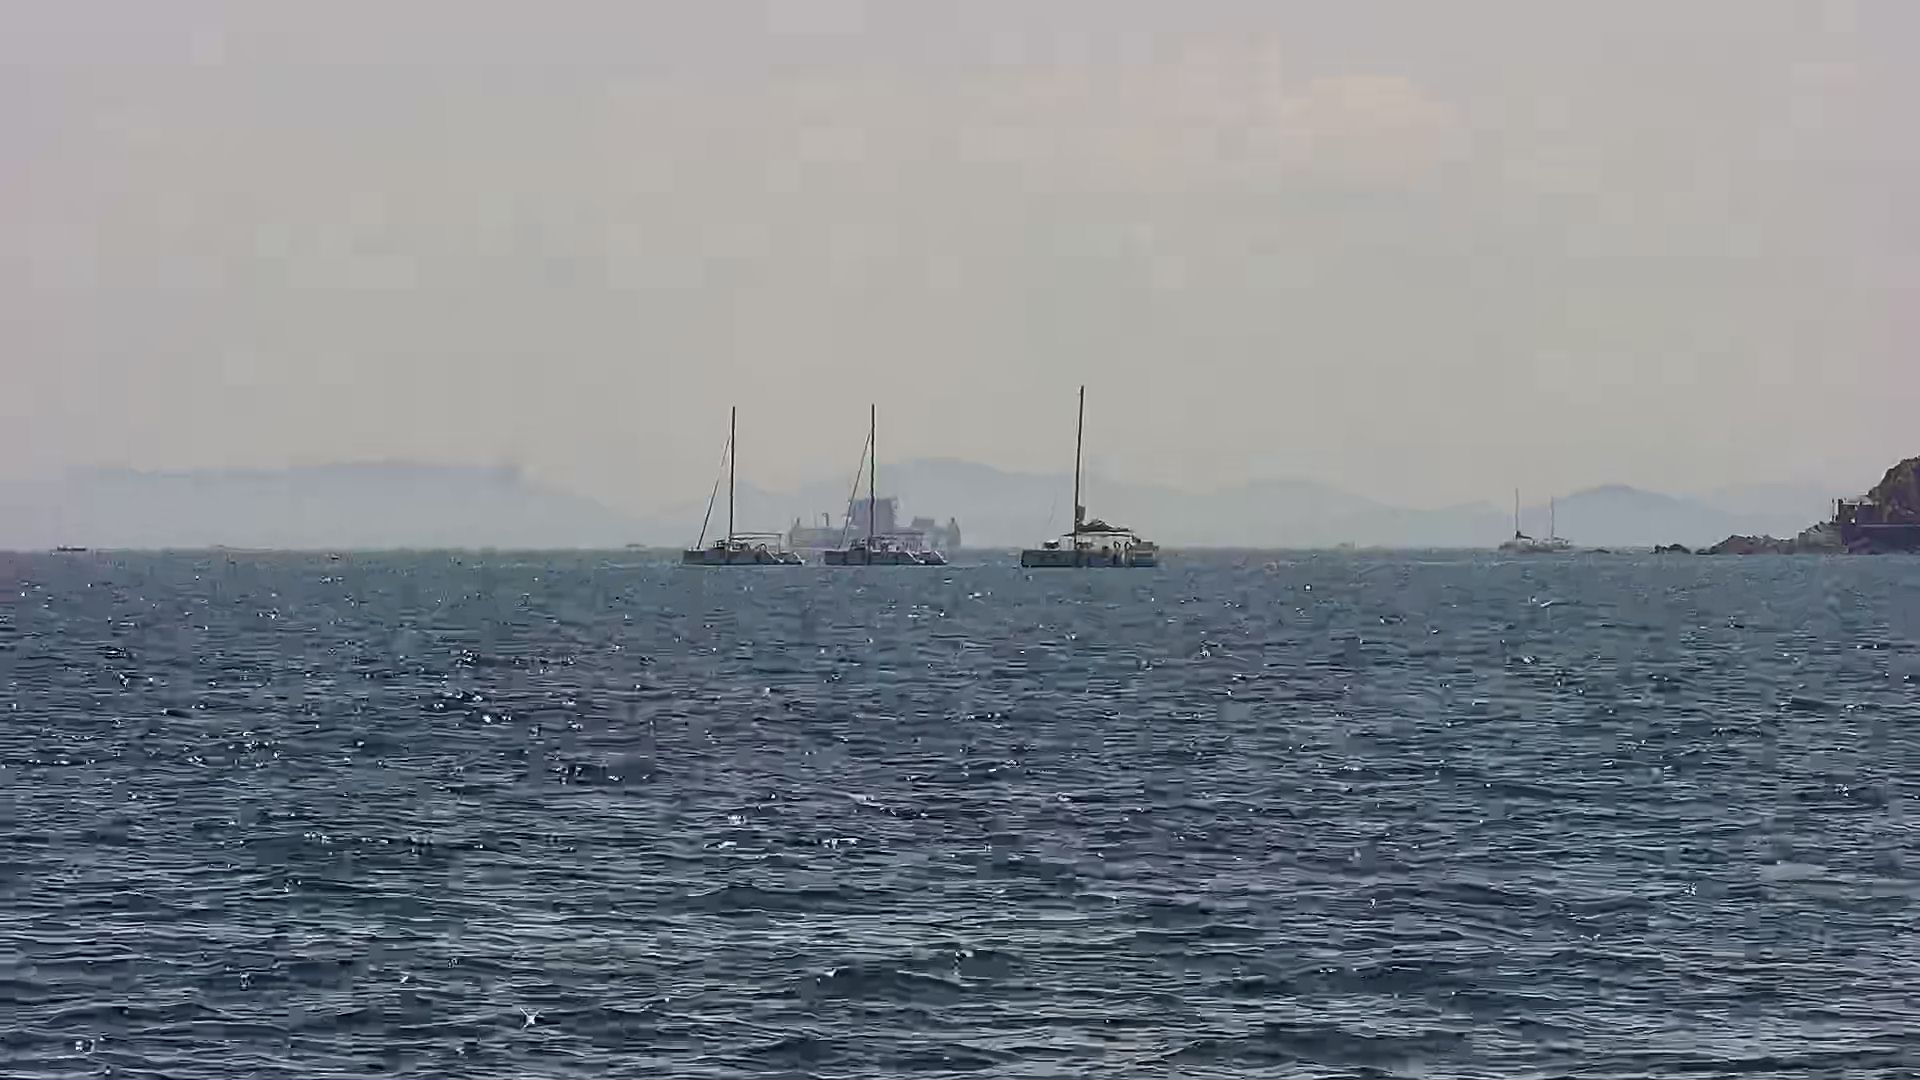boat: (1011, 382, 1166, 576), (823, 402, 959, 566), (680, 400, 804, 568)
platform: (785, 493, 969, 556)
